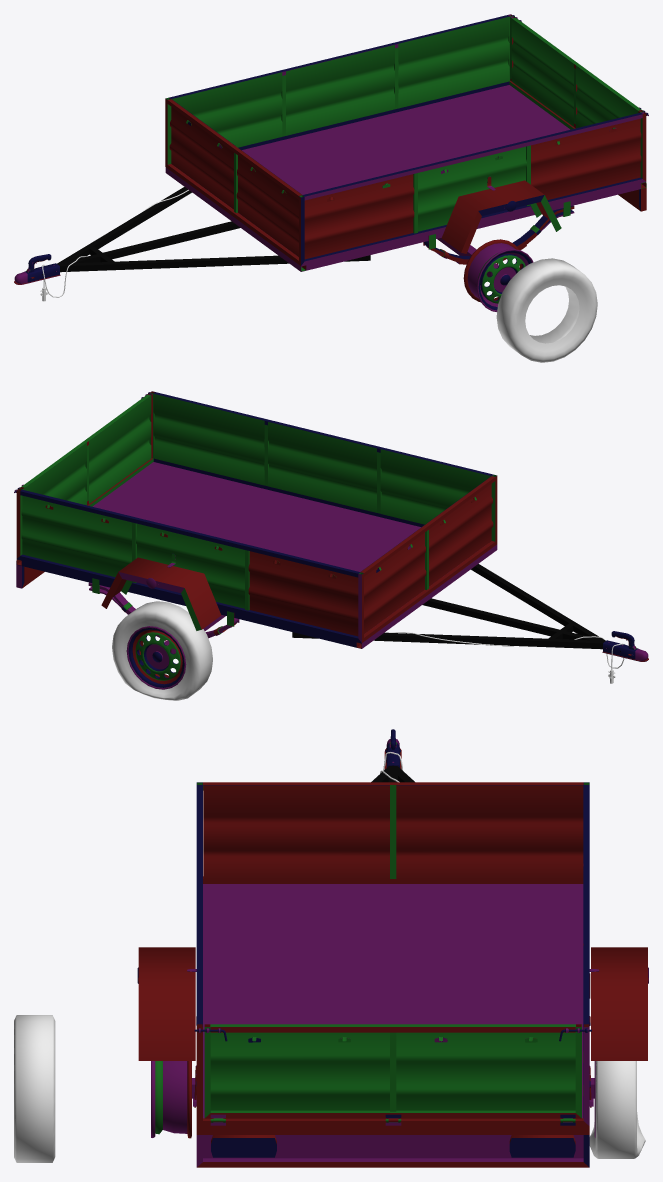
The model's file is trailer_low_good.fbx.
The picture shows the model from 3 angles, top to bottom: view 1: azimuth 30°, elevation 25°; view 2: azimuth 150°, elevation 25°; view 3: azimuth 270°, elevation 25°; orthographic projection. The views are drawn at different scales.
Parts seen in each view (by area): view 1: Group_2, Group_3, Group_1, Group_4, Cylinder140; view 2: Group_2, Group_3, Group_1, Group_4, Cylinder141; view 3: Group_1, Group_3, Group_2, Group_4, Cylinder140, Cylinder141.
Part boxes in pixels (bbox=[...]): Group_2: bbox=[27, 17, 646, 275]; Group_3: bbox=[169, 18, 641, 311]; Group_1: bbox=[14, 16, 643, 285]; Group_4: bbox=[165, 14, 648, 276]; Cylinder140: bbox=[496, 258, 597, 362]; Group_2: bbox=[16, 395, 635, 652]; Group_3: bbox=[24, 394, 491, 689]; Group_1: bbox=[19, 393, 648, 662]; Group_4: bbox=[14, 391, 497, 653]; Cylinder141: bbox=[112, 601, 212, 700]; Group_1: bbox=[138, 739, 647, 1157]; Group_3: bbox=[151, 785, 595, 1158]; Group_2: bbox=[196, 729, 590, 1167]; Group_4: bbox=[137, 782, 648, 1126]; Cylinder140: bbox=[14, 1015, 55, 1162]; Cylinder141: bbox=[589, 1061, 645, 1158].
Bounding box in the file's own units: 3064 × 853 × 2052.
